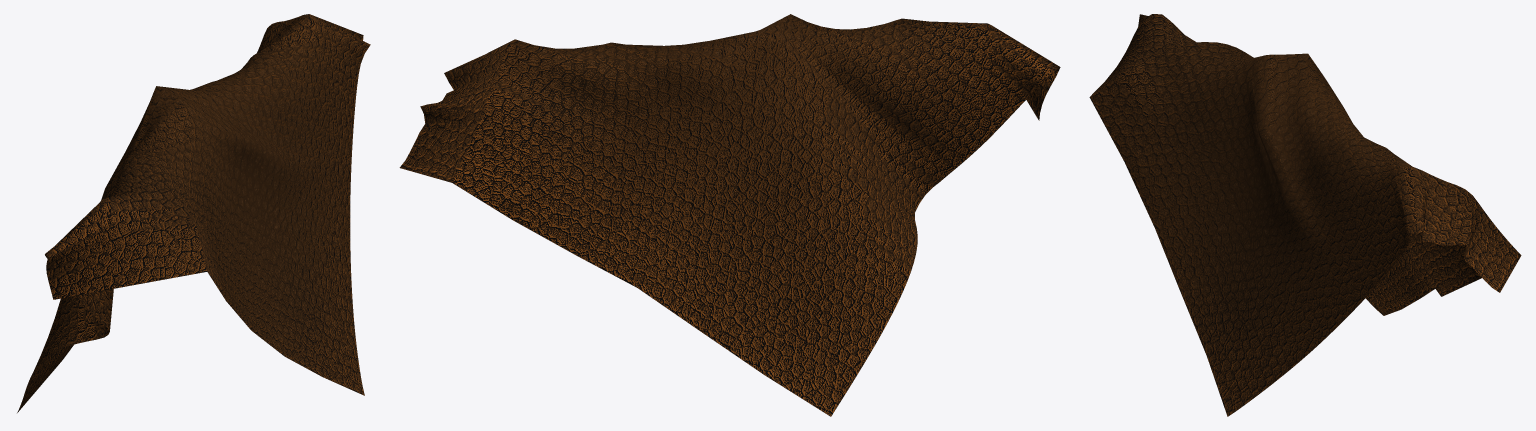
The model's file is leather cloth.FBX.
The picture shows the model from 3 angles, left to right: view 1: azimuth 30°, elevation 25°; view 2: azimuth 150°, elevation 25°; view 3: azimuth 270°, elevation 25°; orthographic projection. The views are drawn at different scales.
Visible parts, largest first — view 1: Plane001; view 2: Plane001; view 3: Plane001.
Boxes of the visible parts, left/top/right/bottom form: Plane001: left=17, top=14, right=370, bottom=412; Plane001: left=399, top=14, right=1060, bottom=416; Plane001: left=1089, top=14, right=1521, bottom=416.
Size of the model in its own units: 175 by 119 by 151.
1 material, 1 textured.
